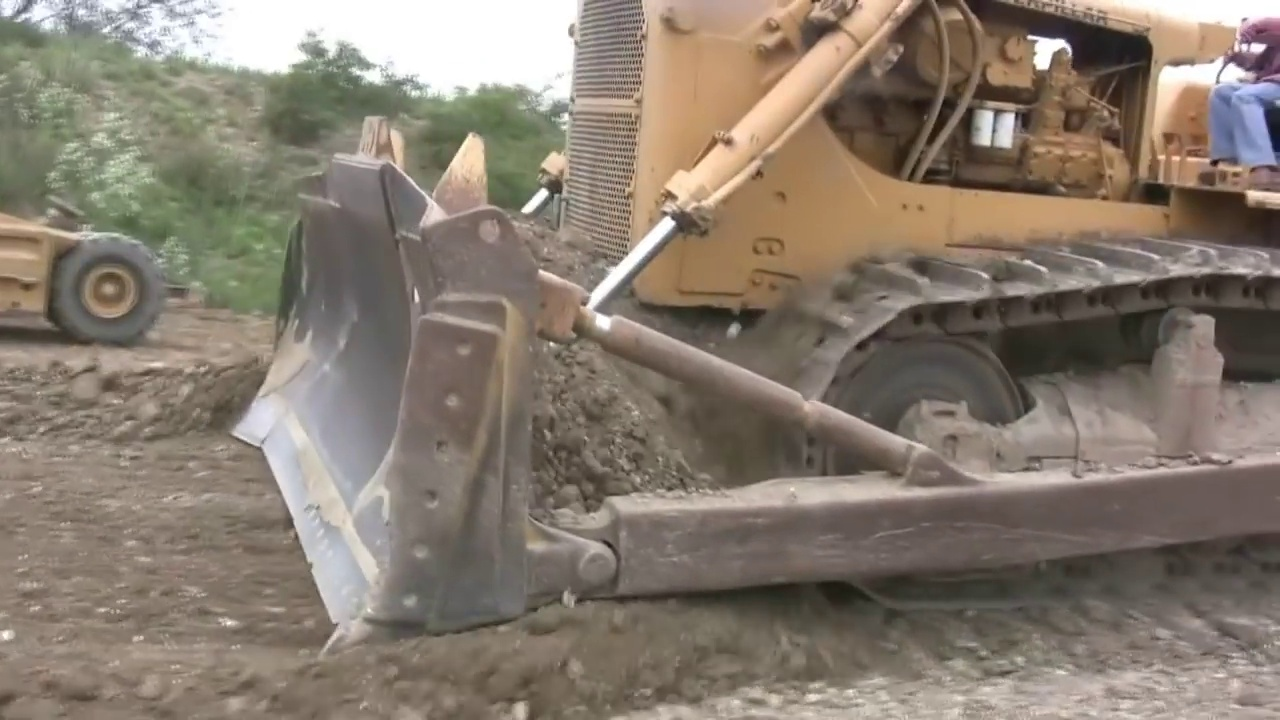bulldozer: (226, 1, 1280, 655)
